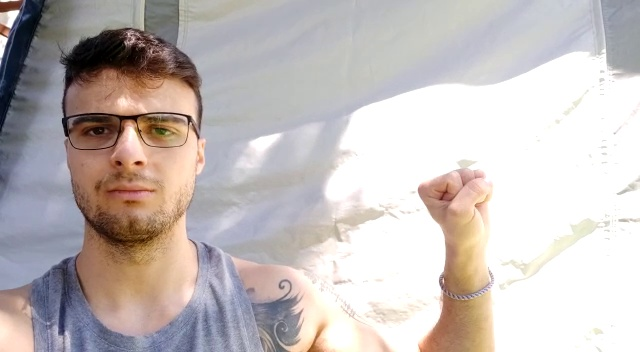Fist: (416, 162, 499, 248)
